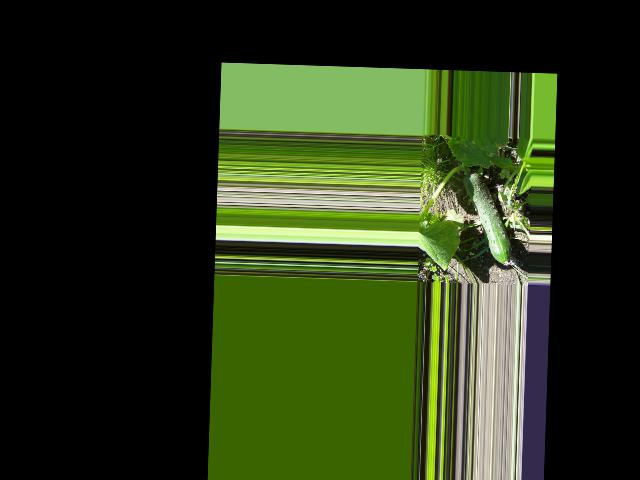cucumber: (460, 170, 514, 265)
